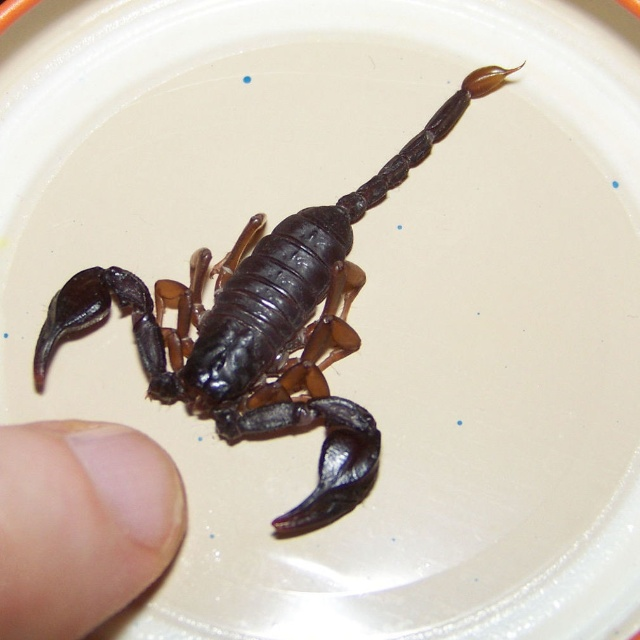Scorpion: (32, 60, 527, 539)
